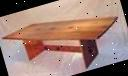Mesa: (0, 2, 127, 75)
